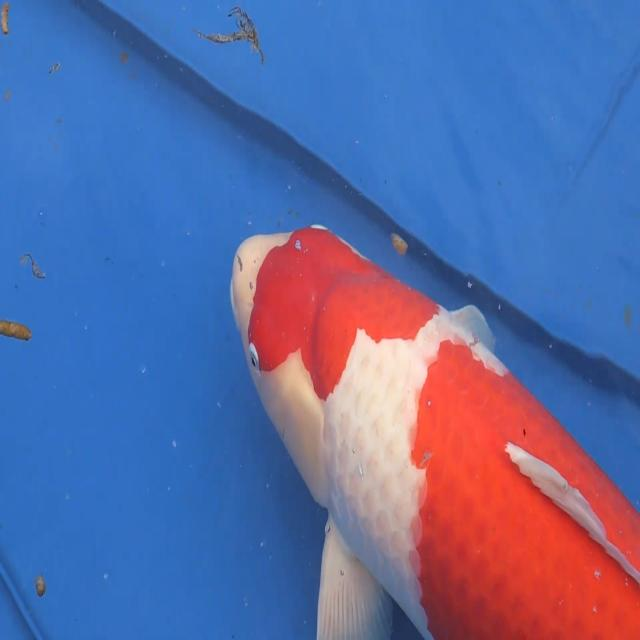Kohaku: (230, 222, 639, 638)
